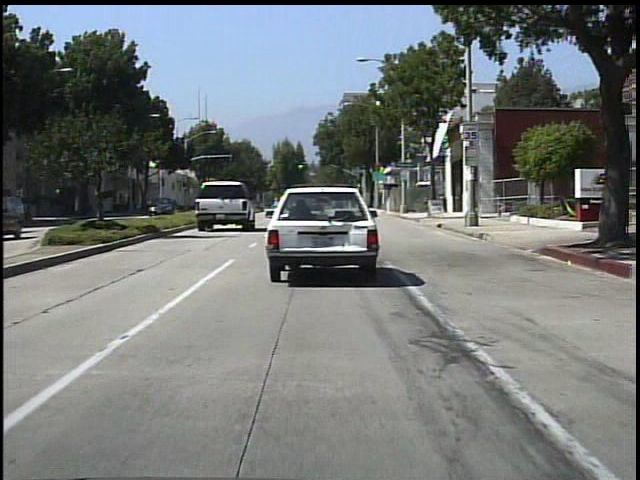person: (95, 193, 112, 221), (146, 195, 154, 216)
